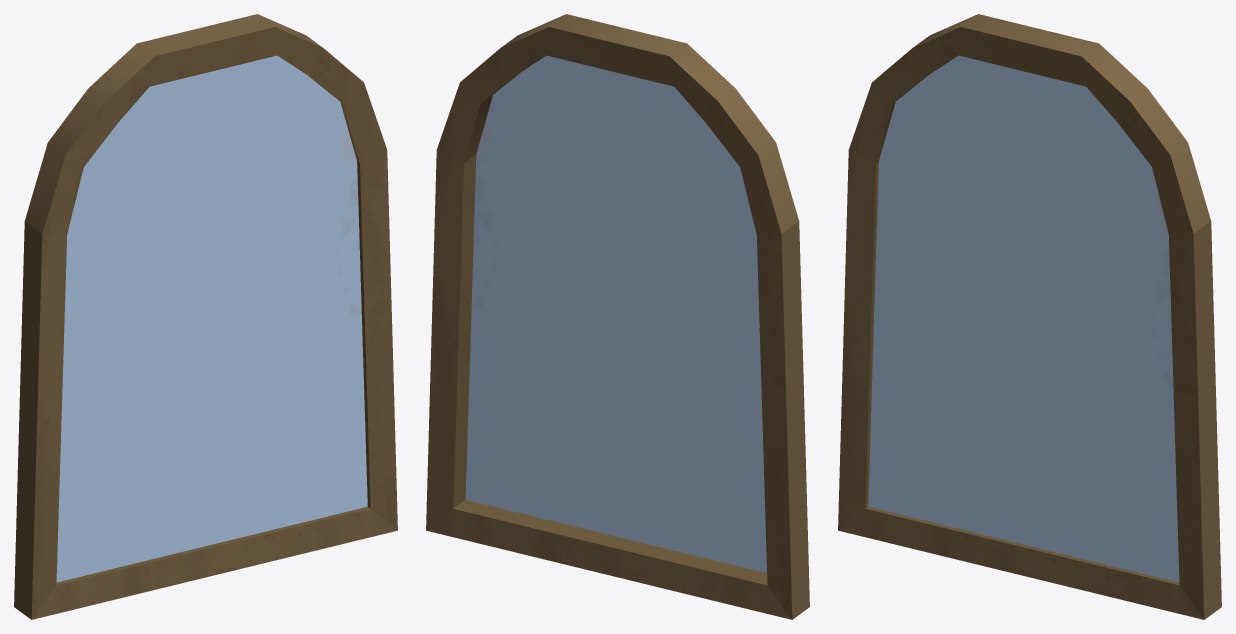
File: SM_museumWindow.fbx
The picture shows the model from 3 angles, left to right: view 1: azimuth 30°, elevation 25°; view 2: azimuth 150°, elevation 25°; view 3: azimuth 330°, elevation 25°; orthographic projection.
Visible parts, largest first — view 1: window; view 2: window; view 3: window.
Boxes of the visible parts, x1=… form: window: x1=14, y1=14, x2=397, y2=619; window: x1=426, y1=14, x2=809, y2=619; window: x1=838, y1=14, x2=1221, y2=619.
Bounding box in the file's own units: 13.39 × 18.65 × 1.12.
Materials: 1 (1 with a texture image).
